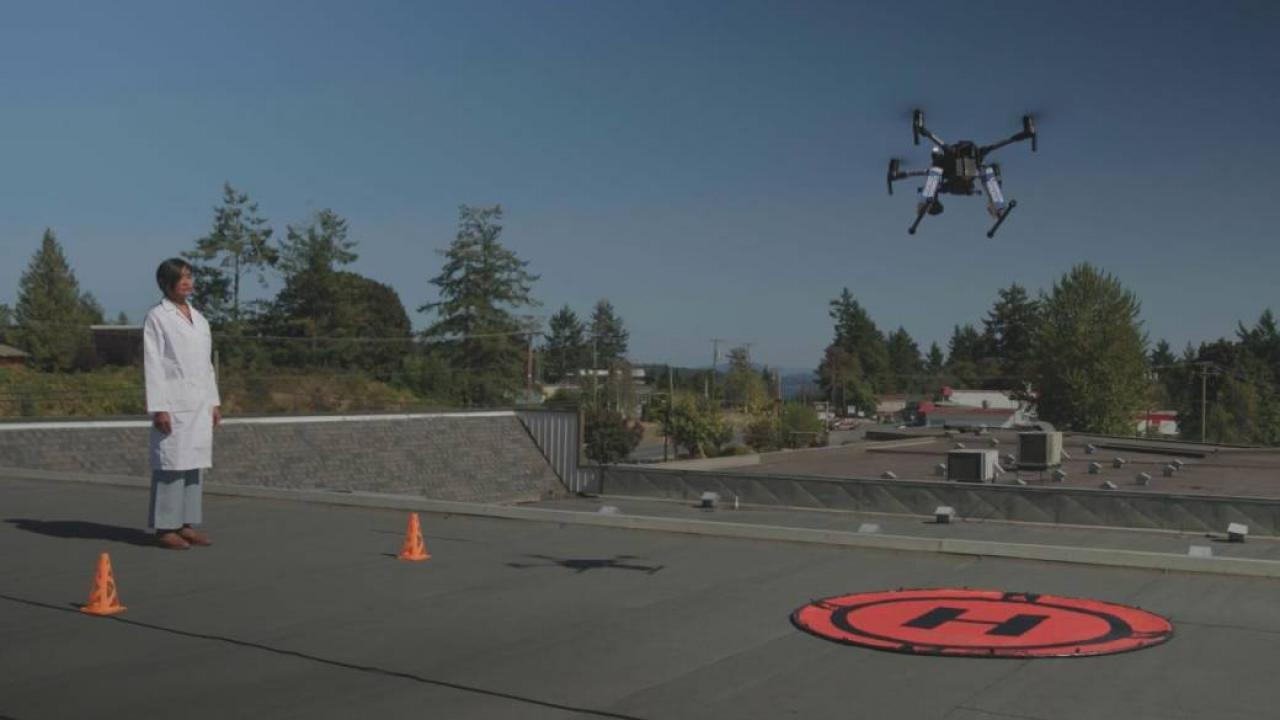Drone: (872, 99, 1052, 246)
